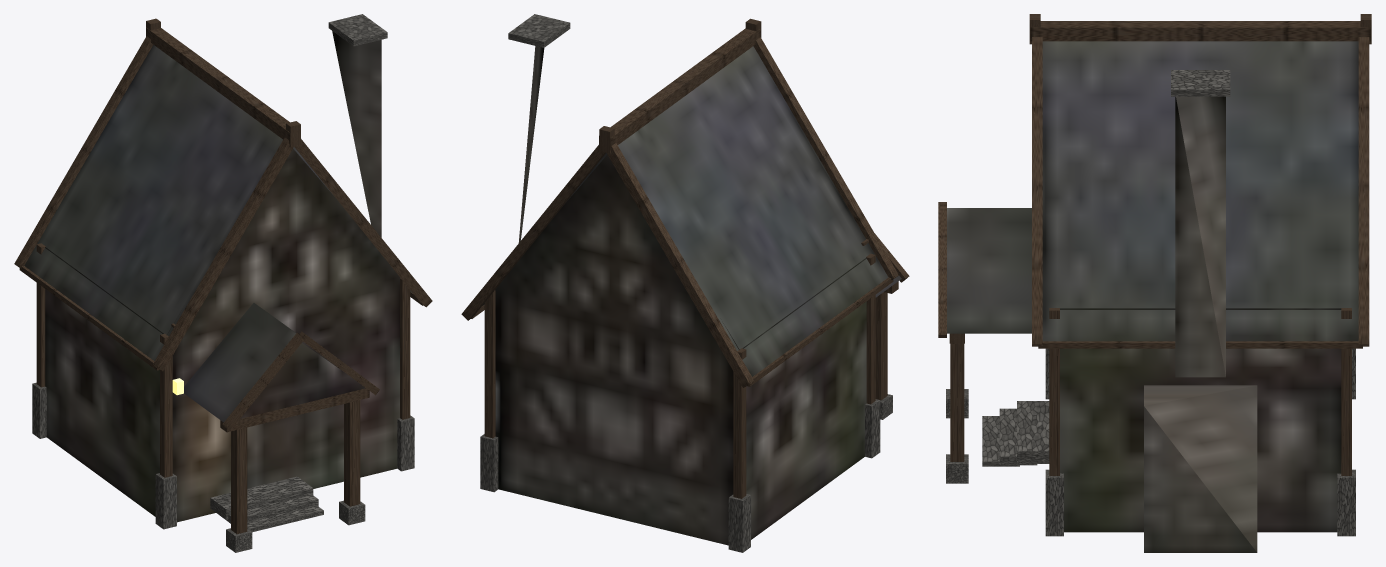
Rendered from casa_entramado_lejos.glb.
The picture shows the model from 3 angles, left to right: view 1: azimuth 30°, elevation 25°; view 2: azimuth 150°, elevation 25°; view 3: azimuth 270°, elevation 25°; orthographic projection. The views are drawn at different scales.
Parts seen in each view (by area): view 1: pieza; view 2: pieza; view 3: pieza.
Boxes of the visible parts, bbox=[...] form: pieza: bbox=[14, 14, 432, 552]; pieza: bbox=[461, 14, 909, 552]; pieza: bbox=[938, 14, 1371, 552].
Size of the model in its own units: 7.38 by 9.42 by 8.01.
5 materials, 4 textured.
